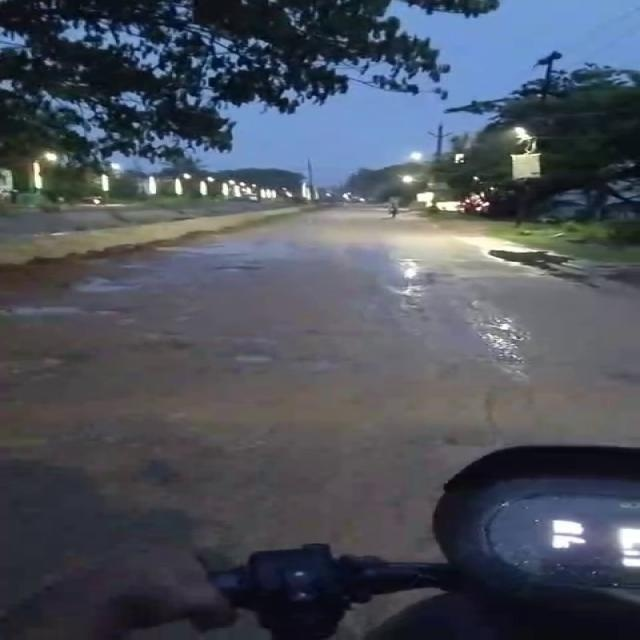pothole: (10, 301, 118, 318), (55, 274, 134, 294), (483, 249, 568, 267), (148, 244, 288, 254), (488, 320, 532, 349), (227, 350, 288, 369), (390, 283, 435, 300), (397, 258, 422, 284), (210, 263, 258, 275)
